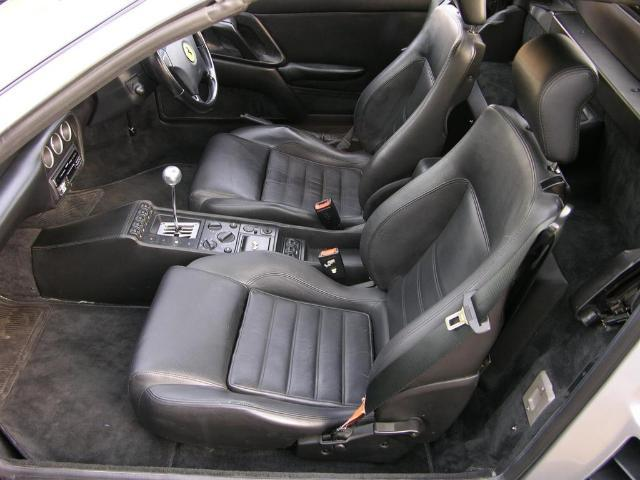Seatbelt: (333, 210, 562, 430)
